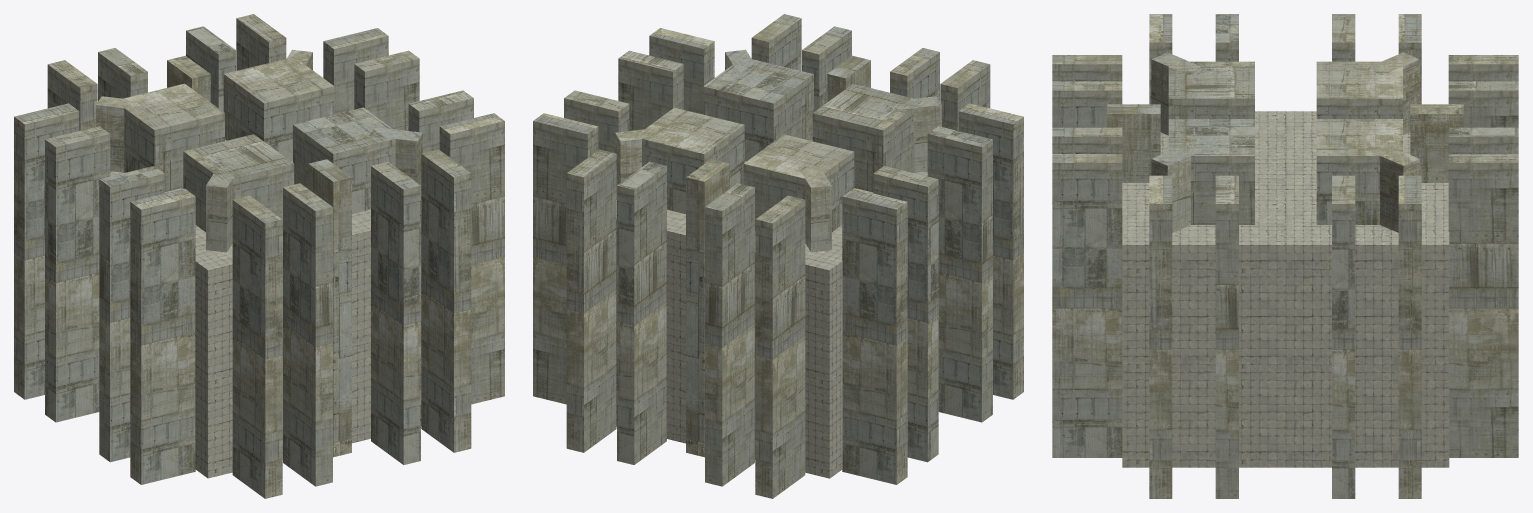
The model's file is SM_LDFest_00_SHADOW.fbx.
The picture shows the model from 3 angles, left to right: view 1: azimuth 30°, elevation 25°; view 2: azimuth 150°, elevation 25°; view 3: azimuth 270°, elevation 25°; orthographic projection. The views are drawn at different scales.
Visible parts, largest first — view 1: SM_LDFest_00_SHADOW; view 2: SM_LDFest_00_SHADOW; view 3: SM_LDFest_00_SHADOW.
Part boxes in pixels (x1,y1,x2,y2): SM_LDFest_00_SHADOW: [14, 14, 504, 498]; SM_LDFest_00_SHADOW: [533, 14, 1023, 498]; SM_LDFest_00_SHADOW: [1052, 14, 1518, 498].
Size of the model in its own units: 5088 by 3680 by 5273.
